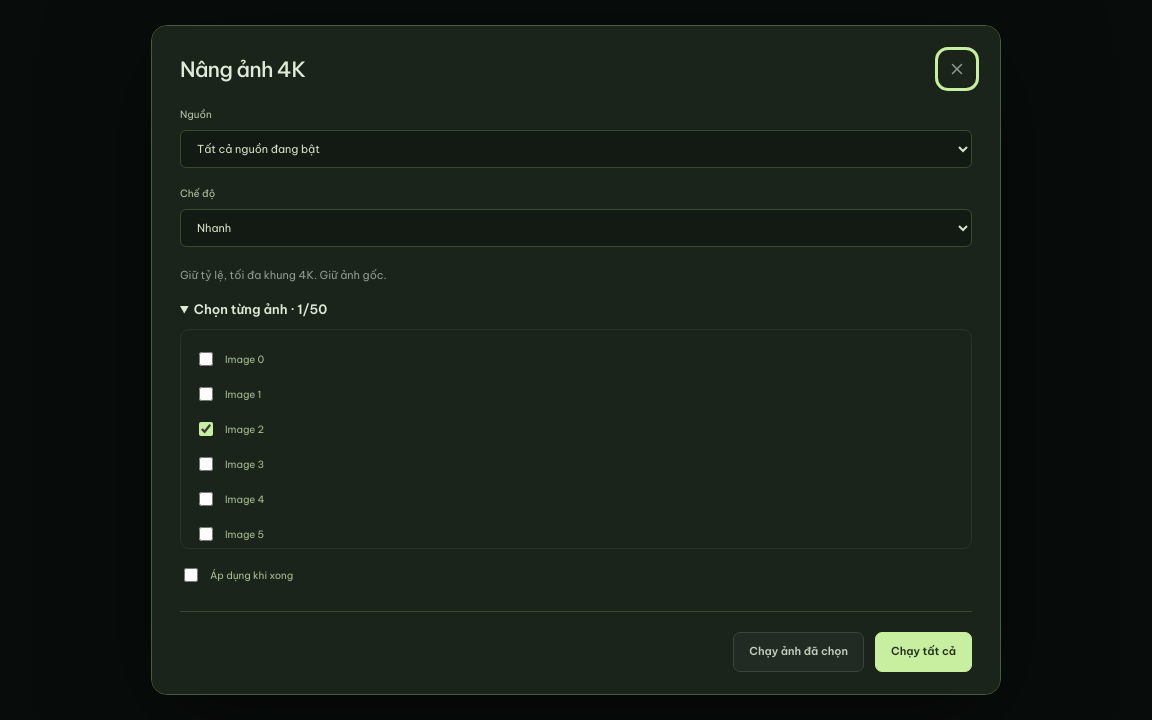
Test: excludes managed result sources from All and never submits selections hidden by another source scope
The width and height of the screenshot is (1152, 720).
Select "Other" in the dropdown labelled "Nguồn" at [576, 148], box [180,130,972,168]
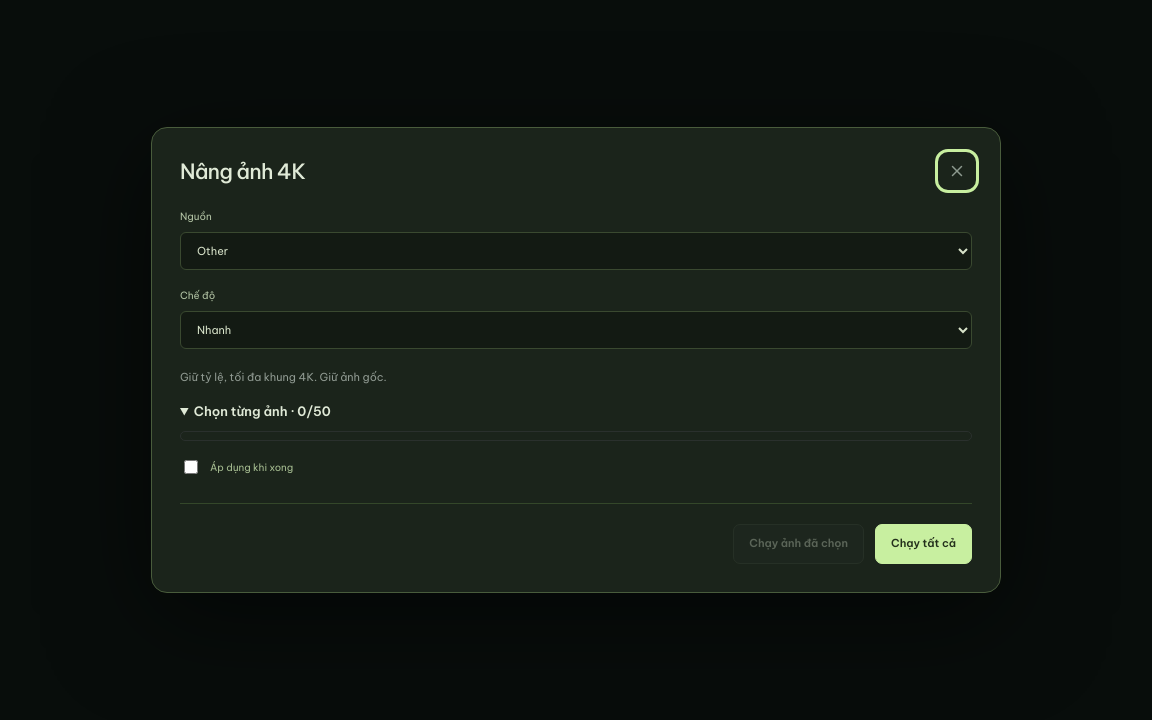
Now the button "Chạy ảnh đã chọn" is disabled, box [733,524,864,564]
